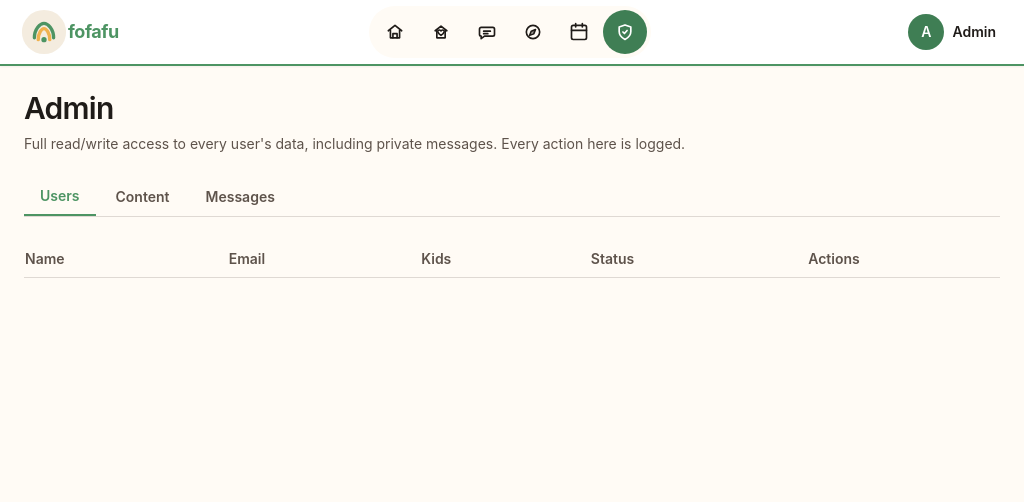
Scenario: AdminPage › Messages tab: shows the private-conversation banner and supports edit + delete
Click the tab "Messages" at (240, 197), box [190,178,291,216]
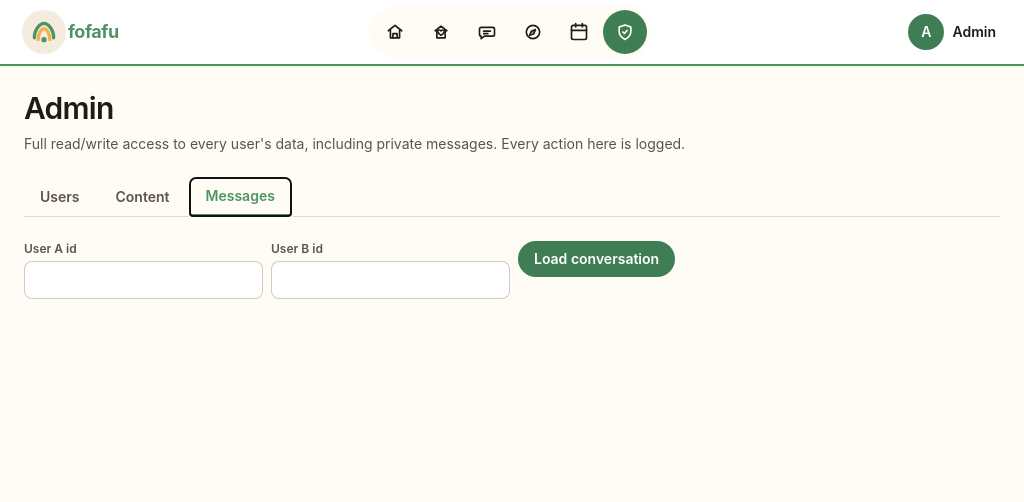
Type "11111111-1111-1111-1111-111111111111" into the field labelled "User A id" at (144, 280), box [24,261,263,299]
Type "22222222-2222-2222-2222-222222222222" into the field labelled "User B id" at (390, 280), box [271,261,510,299]
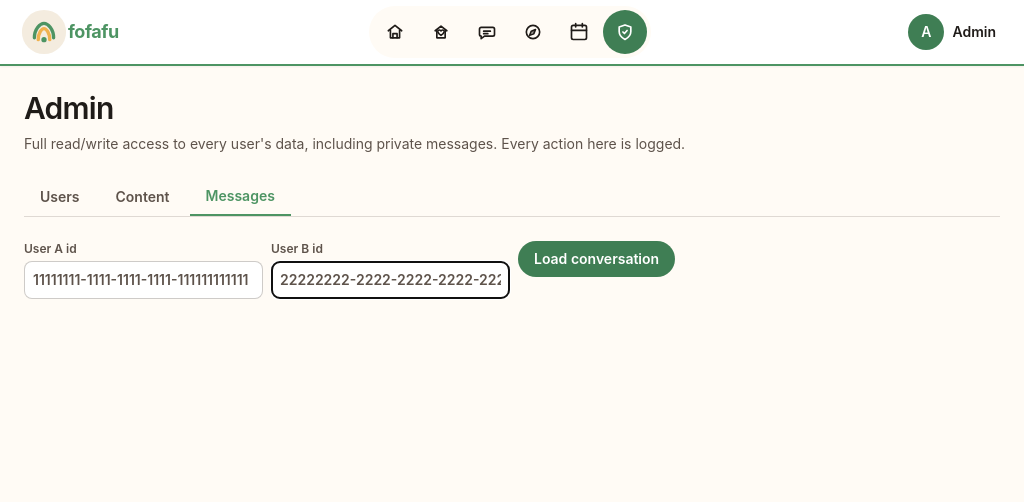
Click the button "Load conversation" at (597, 259), box [518,241,675,277]
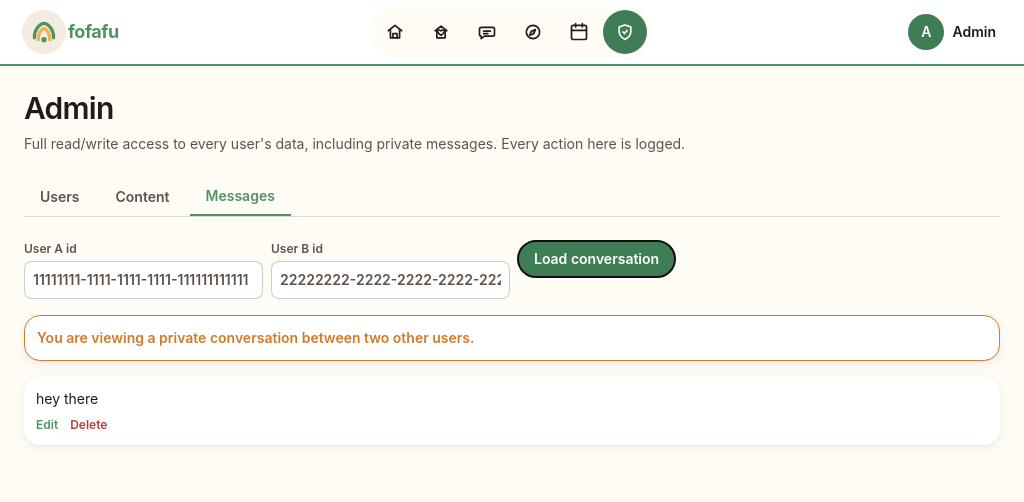
Now the text "You are viewing a private conversation between two other users." is shown, box [24,315,1000,361]
Now the text "hey there" is shown, box [36,390,98,407]
Click the button "Edit" at (47, 425), box [36,417,58,433]
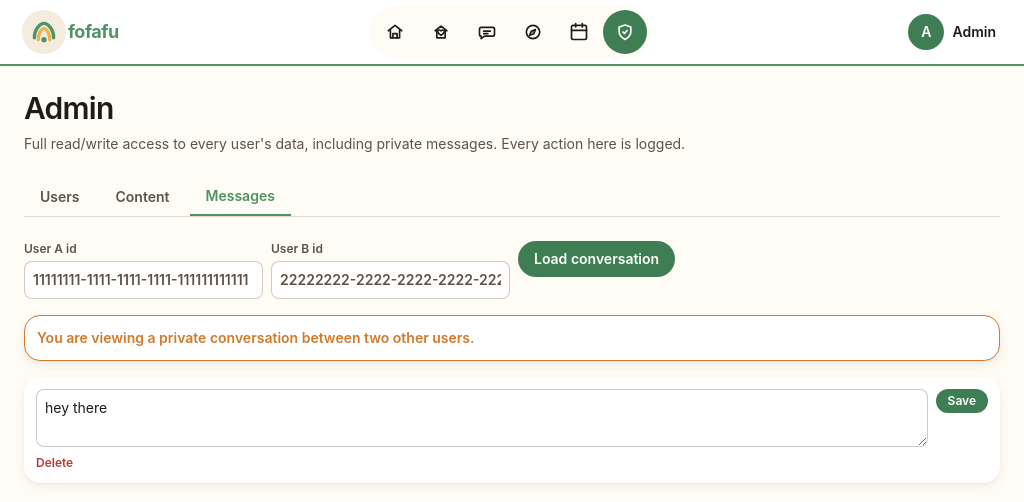
Replace the text in the text box showing "hey there" with "edited message" at (482, 418), box [36,389,928,447]
Click the button "Save" at (962, 401), box [936,389,988,413]
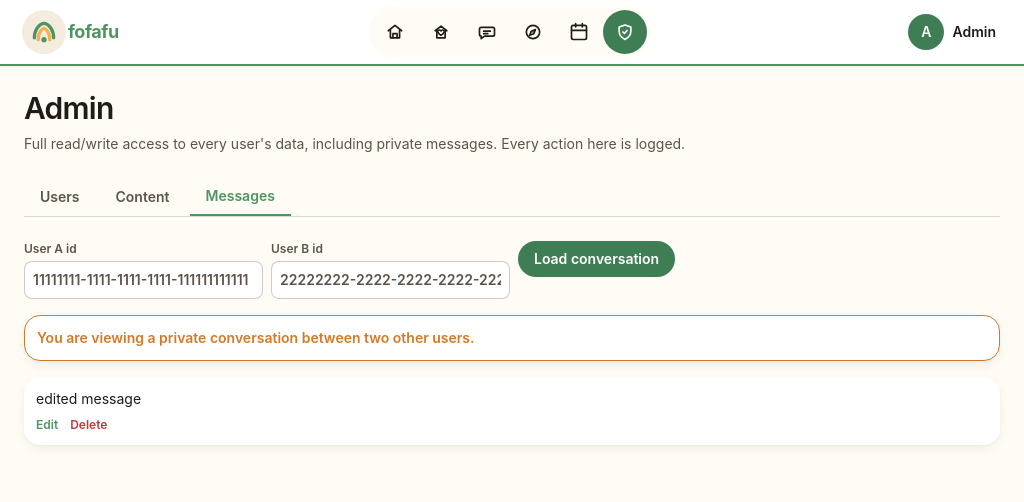
Now the text "edited message" is shown, box [36,390,141,407]
Click the button "Delete" at (89, 425), box [70,417,107,433]
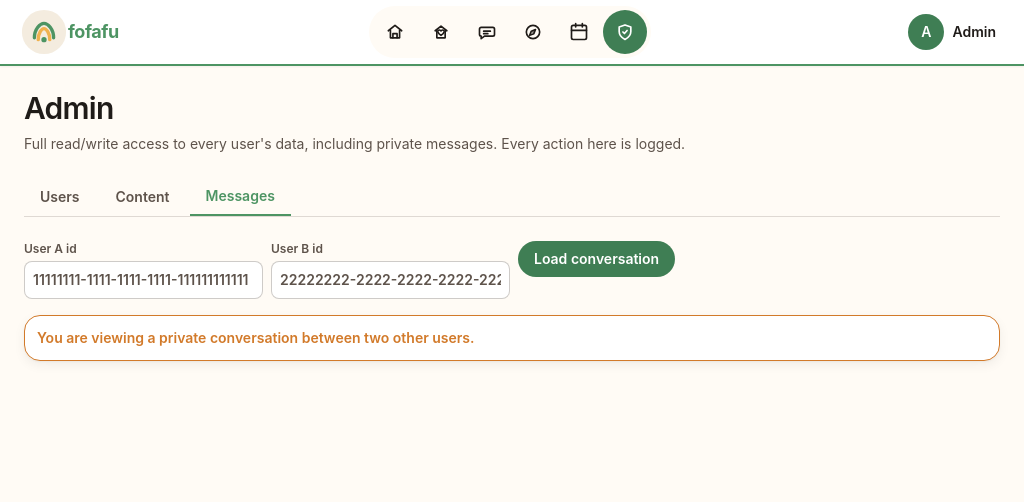
Now the text "edited message" is gone
